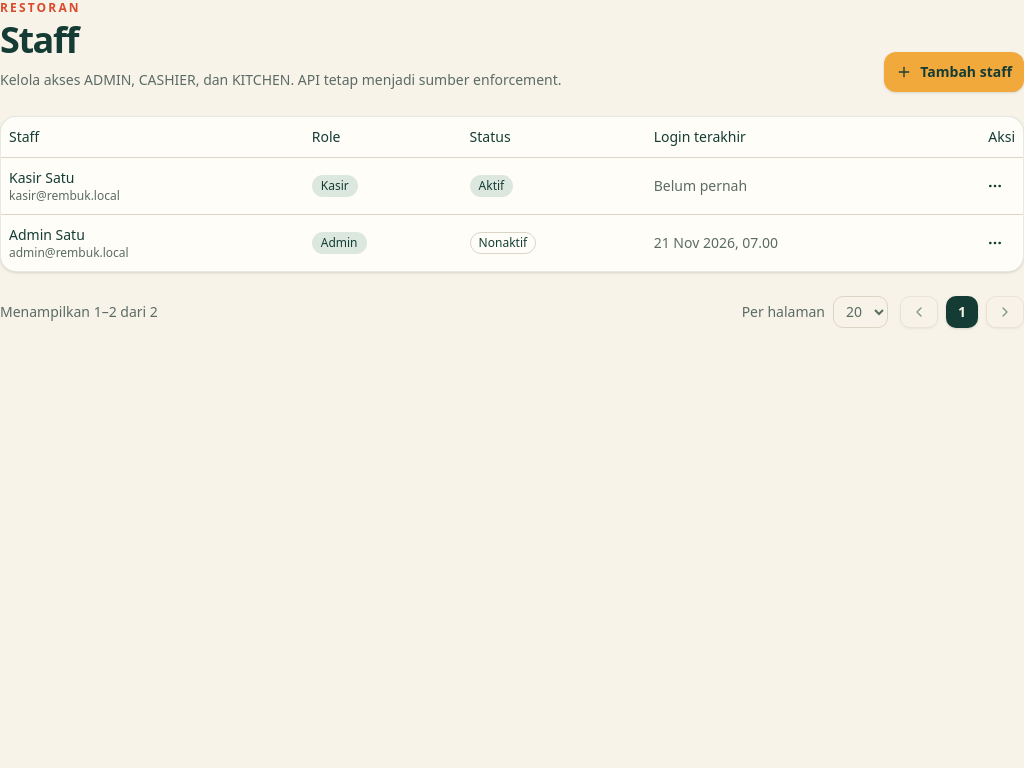
Scenario: StaffPage › renders staff rows and opens the create dialog
Expected: the text "Kasir Satu" is shown, x1=9 y1=168 x2=74 y2=186
Expected: the text "Kasir" is shown, x1=312 y1=174 x2=358 y2=196
Click the button "Tambah staff" at (954, 72), box x1=884 y1=52 x2=1023 y2=92
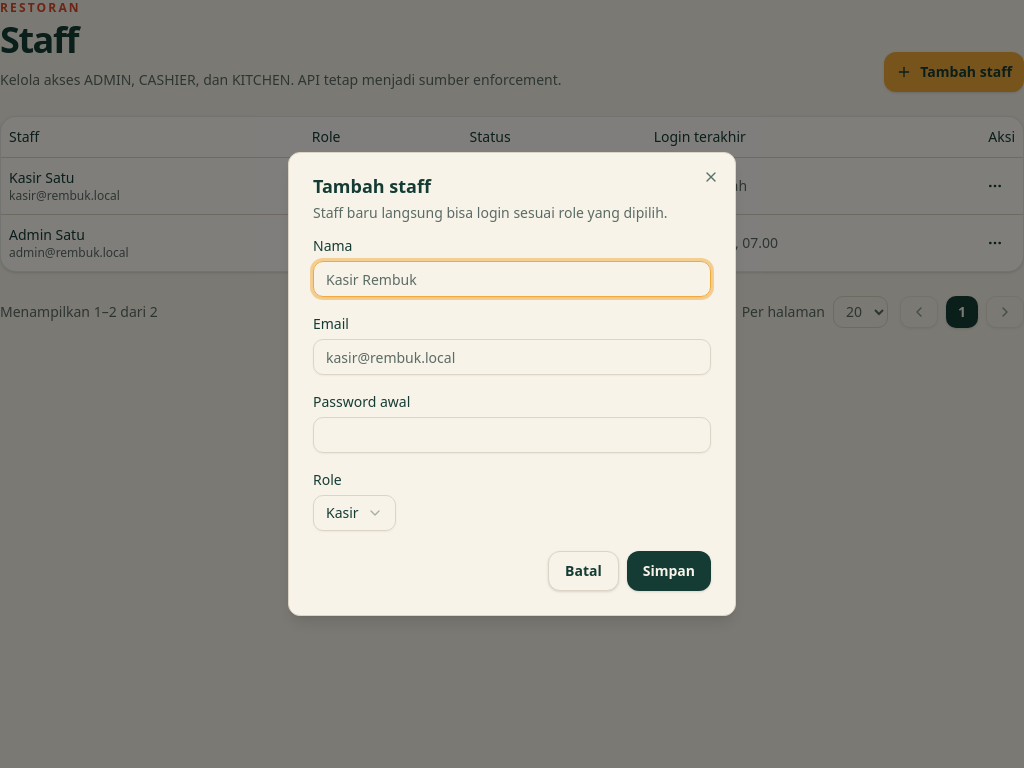
Now the heading "Tambah staff" is shown, box x1=313 y1=174 x2=431 y2=198
Now the field labelled "Email" is shown, box x1=313 y1=339 x2=711 y2=375
